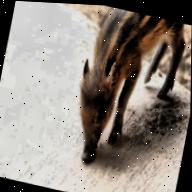boar: (65, 3, 190, 178)
